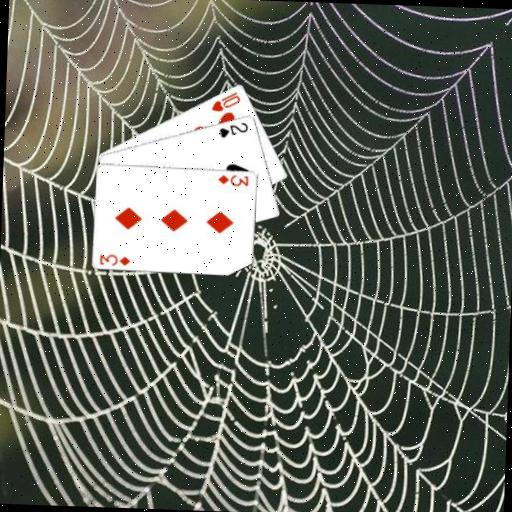10H: (208, 88, 241, 114)
2S: (216, 117, 250, 139)
3D: (96, 250, 132, 268), (214, 171, 250, 188)
